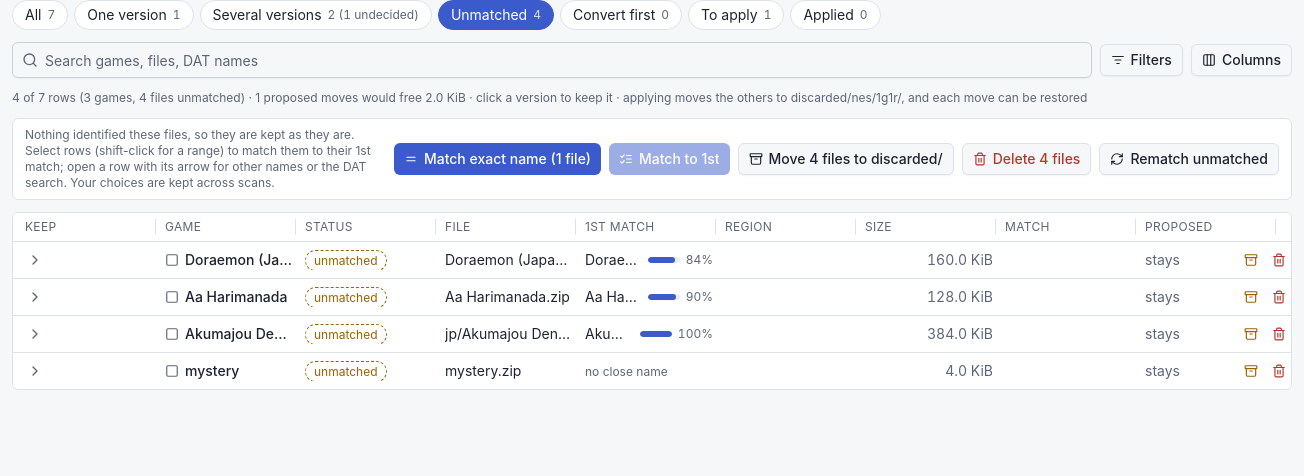
Test: the chevron opens a row; a suggestion there assigns it
This screenshot has width=1304, height=476.
What coordinates should you click on to do the following:
click the button named "Doraemon (Japan) (Rev 1): show the details"
I would click on:
 (35, 260)
Its box is [25,250,45,270].
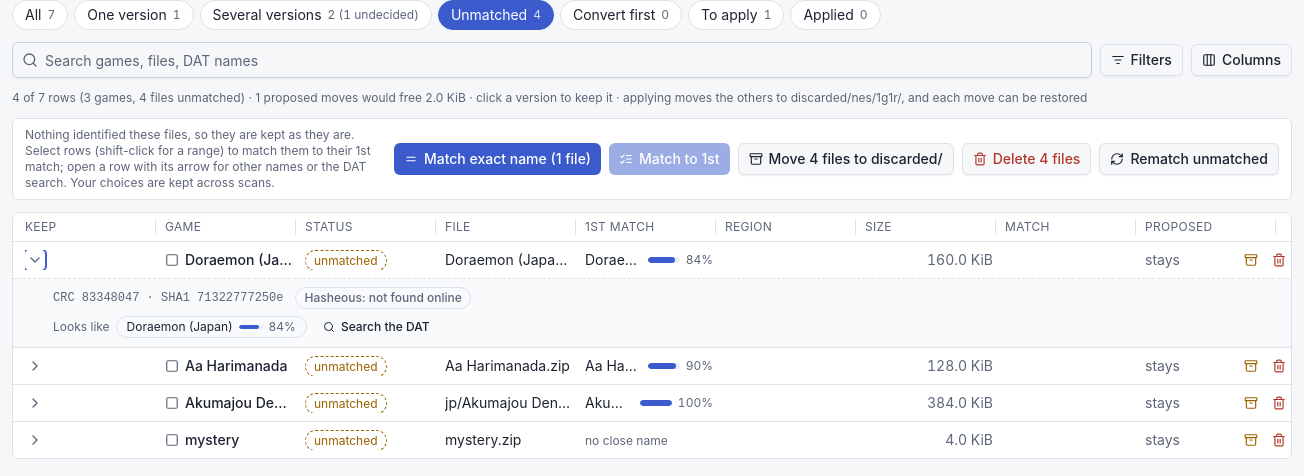
expect the text "Hasheous: not found online" is shown: met, box [296,287,471,309]
What coordinates should you click on to do the following:
click the button "Doraemon (Japan) 84%"
I would click on:
 (211, 327)
Its box is [116,316,307,338].
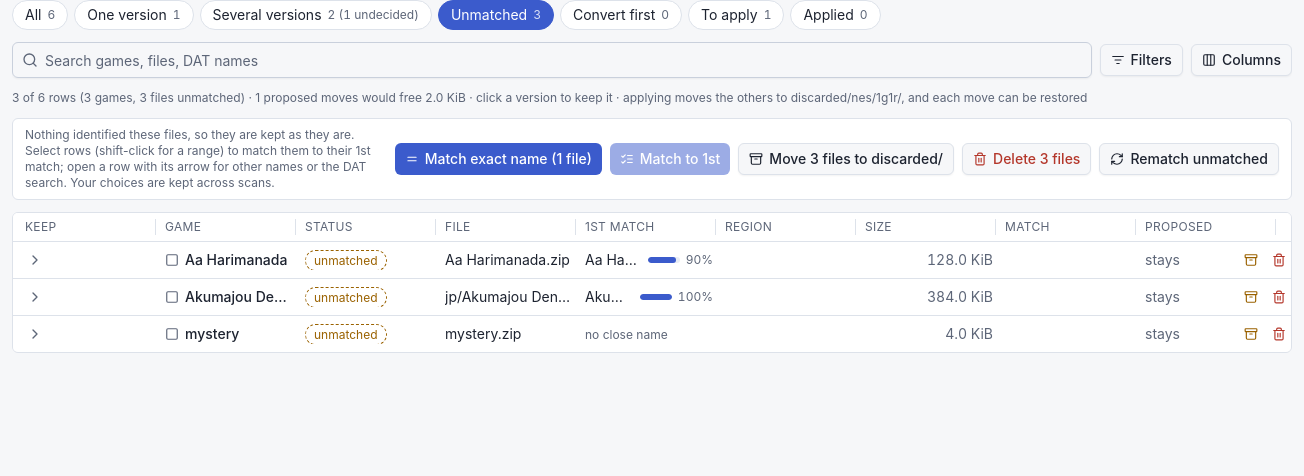
expect the button "Doraemon (Japan) (Rev 1)" is gone: met
